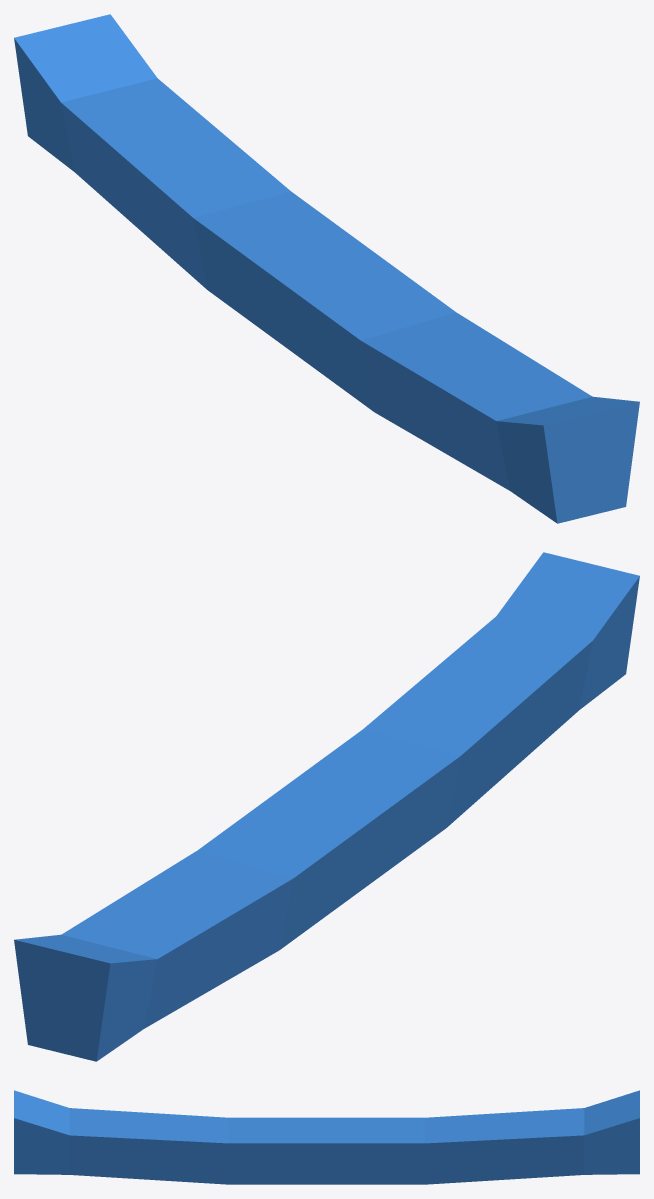
File: Collision_Roof_Log.fbx
3 renders of one model, top to bottom at view 1: azimuth 30°, elevation 25°; view 2: azimuth 150°, elevation 25°; view 3: azimuth 270°, elevation 25°, orthographic. The views are drawn at different scales.
Parts seen in each view (by area): view 1: UCX_Roof_Log_1; view 2: UCX_Roof_Log_1; view 3: UCX_Roof_Log_1.
Boxes of the visible parts, bbox=[...] form: UCX_Roof_Log_1: bbox=[14, 14, 639, 523]; UCX_Roof_Log_1: bbox=[14, 552, 639, 1061]; UCX_Roof_Log_1: bbox=[14, 1090, 639, 1184].
Size of the model in its own units: 115 by 137 by 1070.
